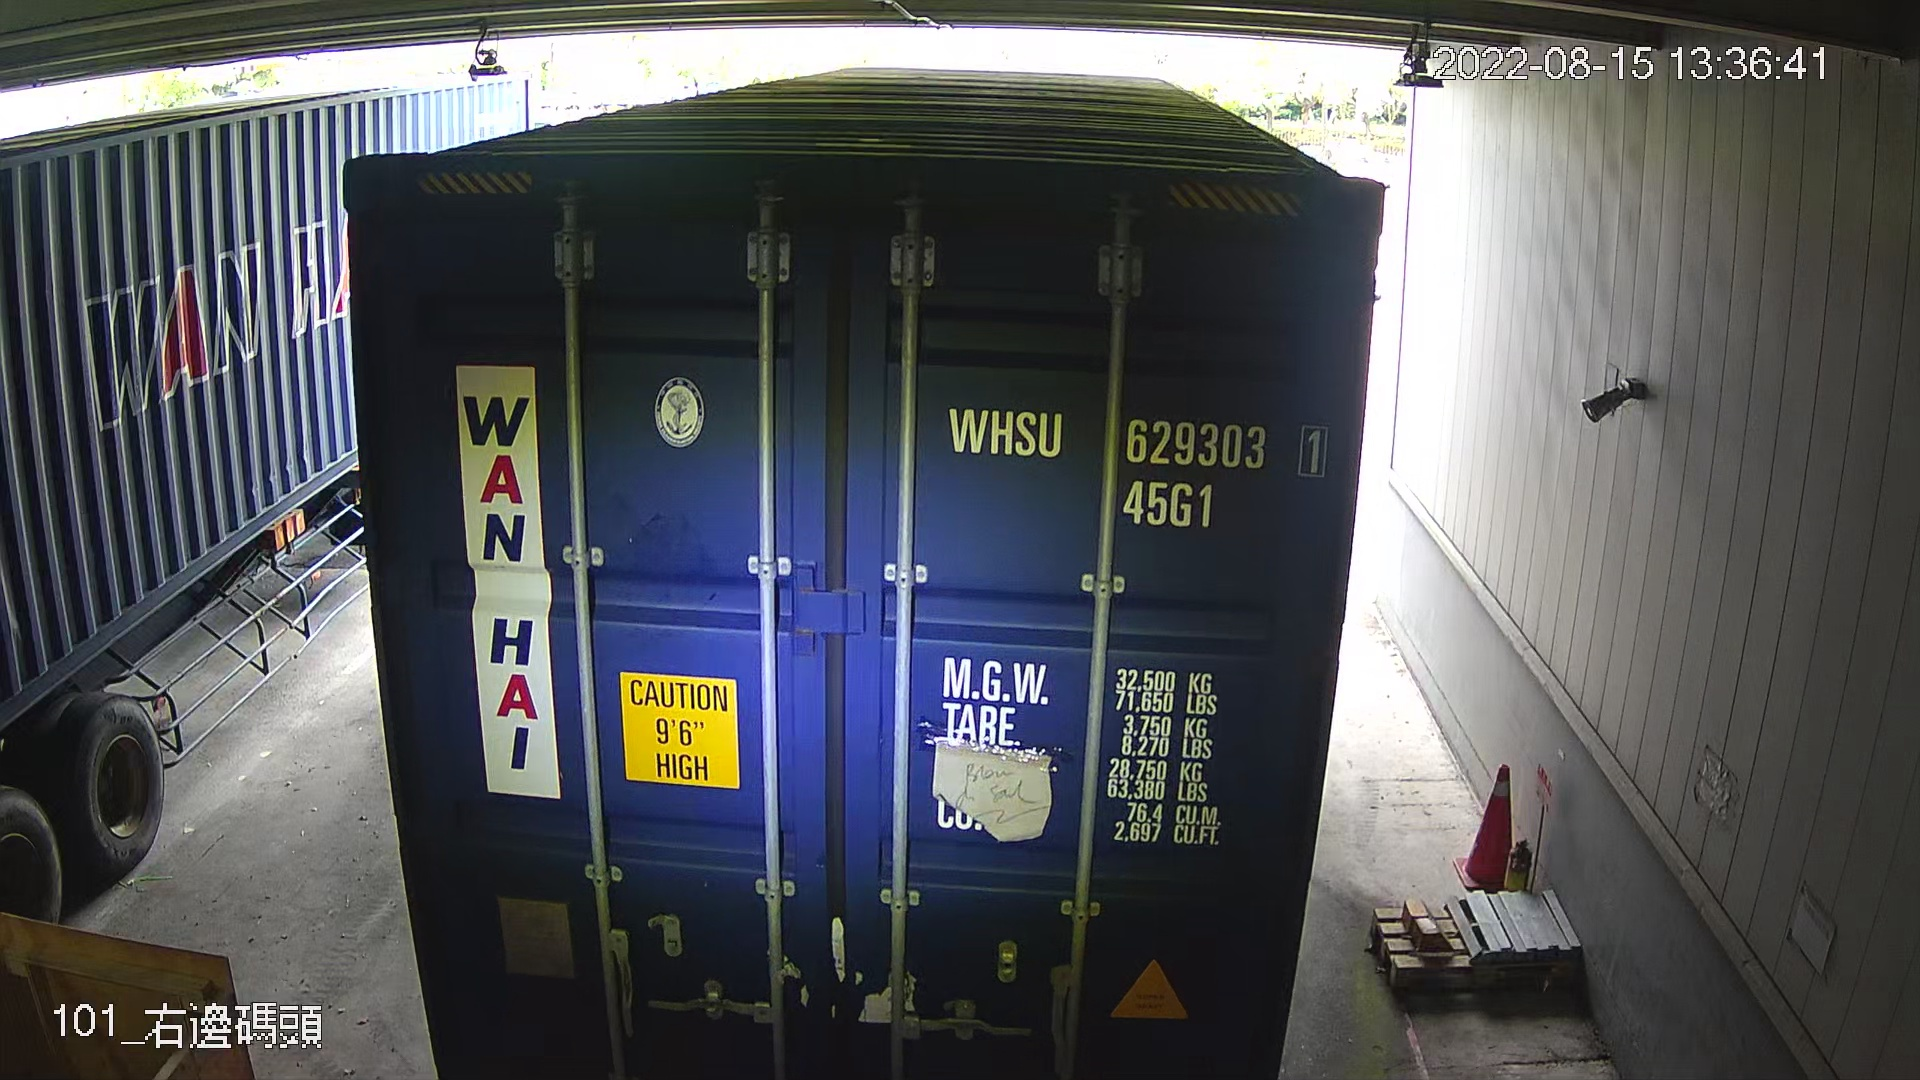container: (928, 386, 1338, 541)
